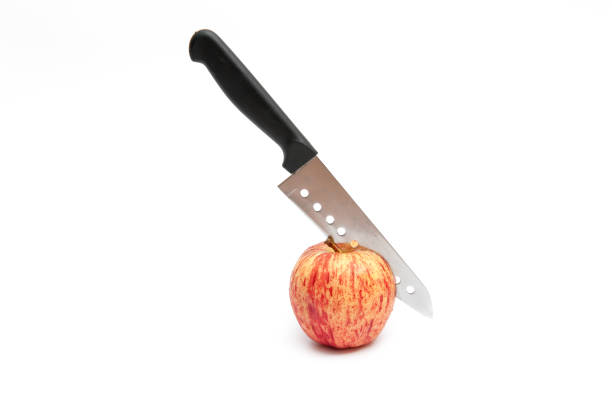knife: (188, 26, 436, 322)
